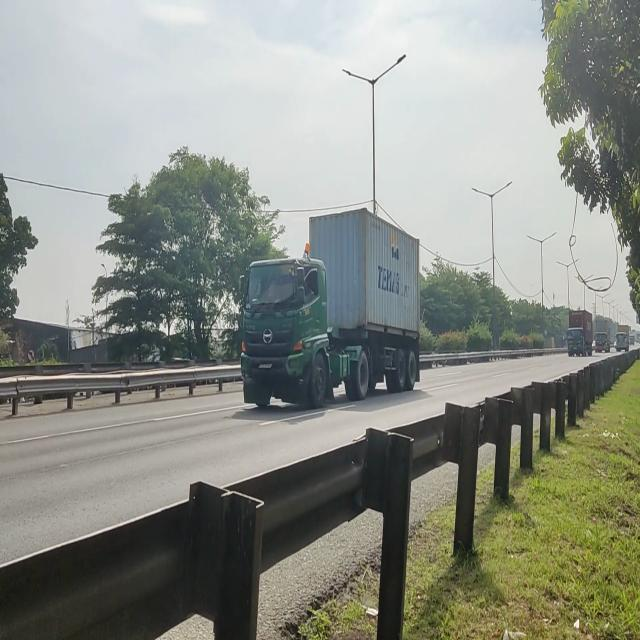Golongan IV: (234, 236, 422, 409)
